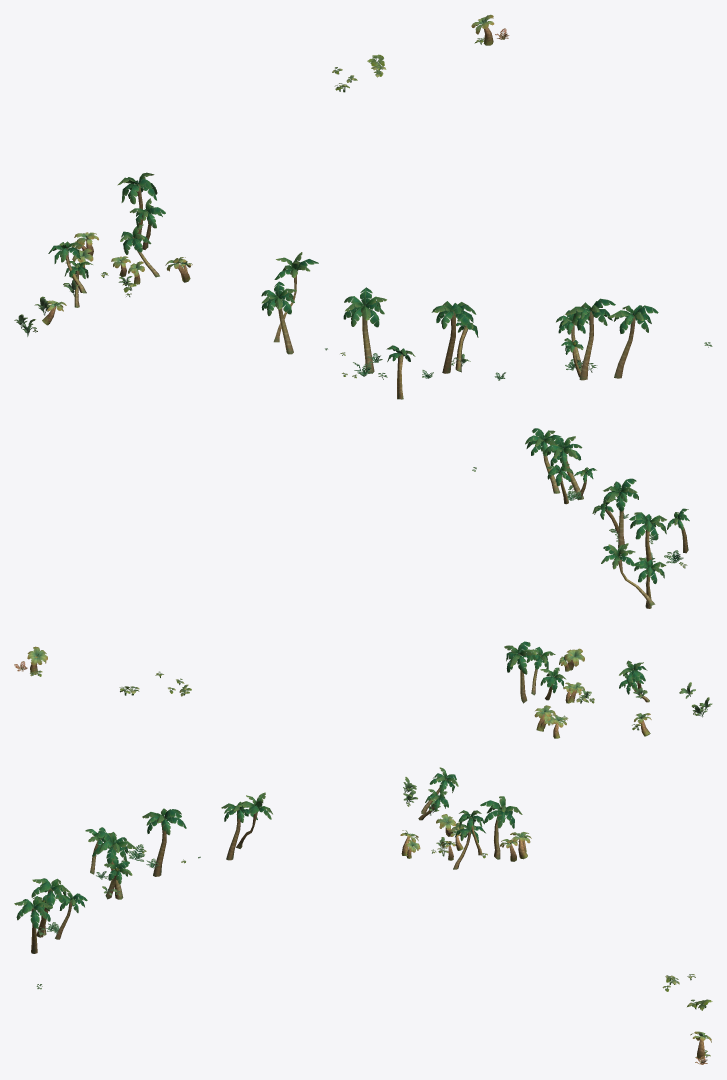
The model's file is pref_sm_4v4beachtech_bk_topblock_R02_lv2.fbx.
3 renders of one model, top to bottom at view 1: azimuth 30°, elevation 25°; view 2: azimuth 150°, elevation 25°; view 3: azimuth 270°, elevation 25°, orthographic. The views are drawn at different scales.
Visible parts, largest first — view 1: pref_sm_4v4beachtech_bk_topblock_R02_lv2; view 2: pref_sm_4v4beachtech_bk_topblock_R02_lv2; view 3: pref_sm_4v4beachtech_bk_topblock_R02_lv2.
Part boxes in pixels (<box>): pref_sm_4v4beachtech_bk_topblock_R02_lv2: <box>14,14,712,399</box>; pref_sm_4v4beachtech_bk_topblock_R02_lv2: <box>14,428,712,738</box>; pref_sm_4v4beachtech_bk_topblock_R02_lv2: <box>14,767,712,1064</box>.
Bounding box in the file's own units: 74.05 × 12.26 × 76.24.
